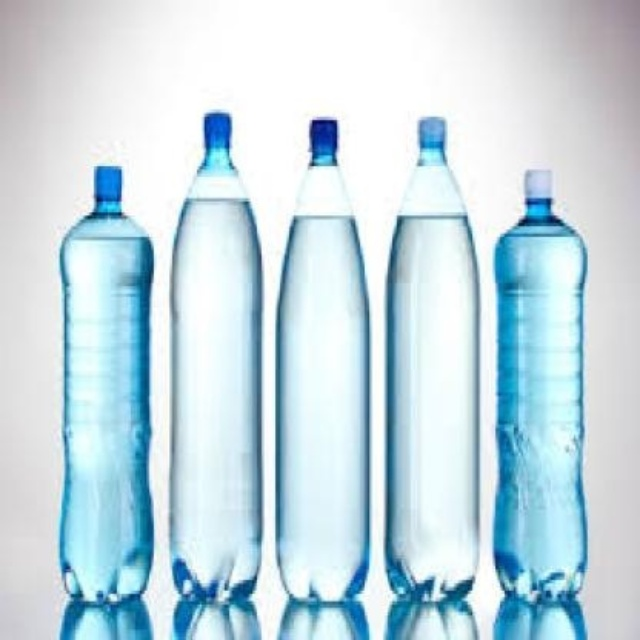trash: (275, 118, 369, 602), (386, 117, 478, 603), (277, 118, 368, 600), (171, 112, 260, 597), (171, 112, 260, 595), (388, 117, 477, 597), (495, 171, 586, 637), (60, 166, 151, 600), (494, 171, 586, 597)
